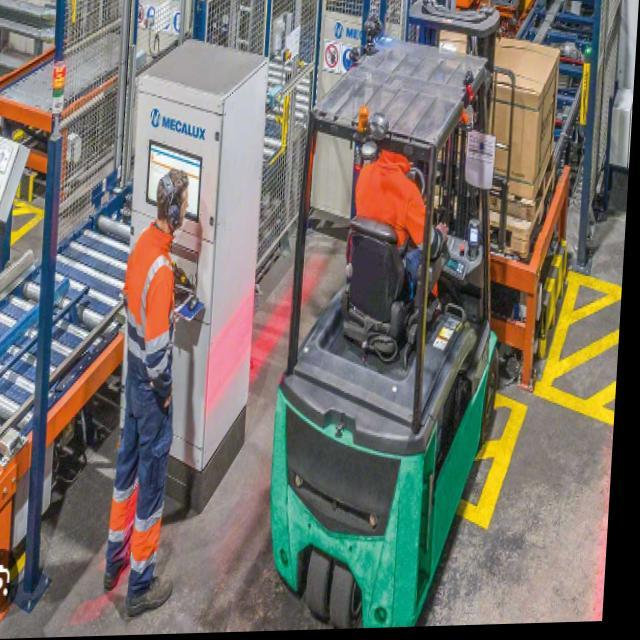shoes: (97, 540, 180, 623)
vest: (343, 140, 452, 303), (111, 216, 183, 409)
